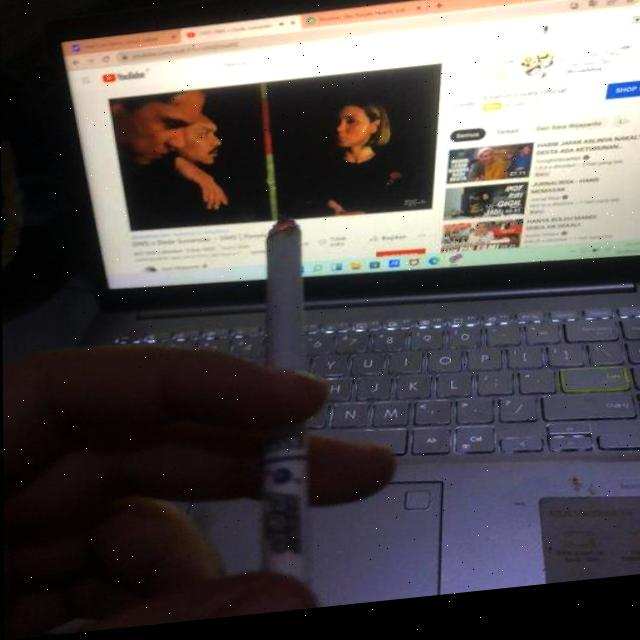cigarette: (257, 223, 306, 591)
